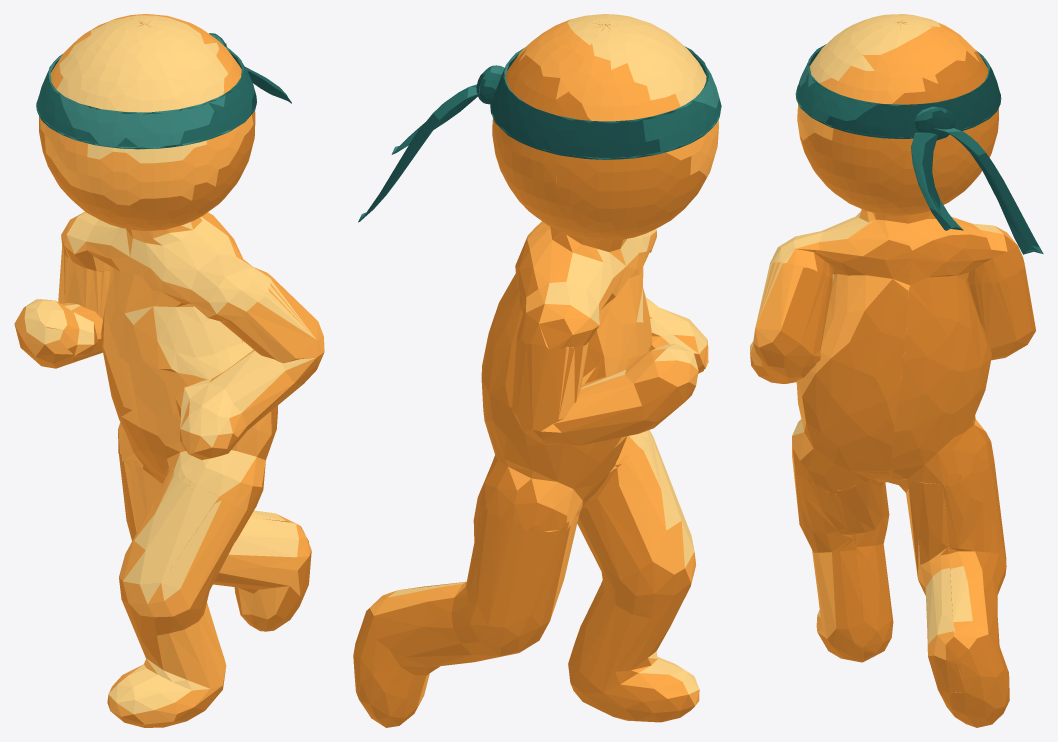
File: Ninja_Jog2_L.gltf
3 renders of one model, left to right at view 1: azimuth 30°, elevation 25°; view 2: azimuth 150°, elevation 25°; view 3: azimuth 270°, elevation 25°, orthographic. The views are drawn at different scales.
Parts seen in each view (by area): view 1: Ninja_Jog2_L_baked; view 2: Ninja_Jog2_L_baked; view 3: Ninja_Jog2_L_baked.
Boxes of the visible parts, left/top/right/bottom form: Ninja_Jog2_L_baked: left=14, top=14, right=324, bottom=727; Ninja_Jog2_L_baked: left=353, top=14, right=721, bottom=727; Ninja_Jog2_L_baked: left=750, top=14, right=1043, bottom=727.
Size of the model in its own units: 0.4635 by 1 by 0.4214.
